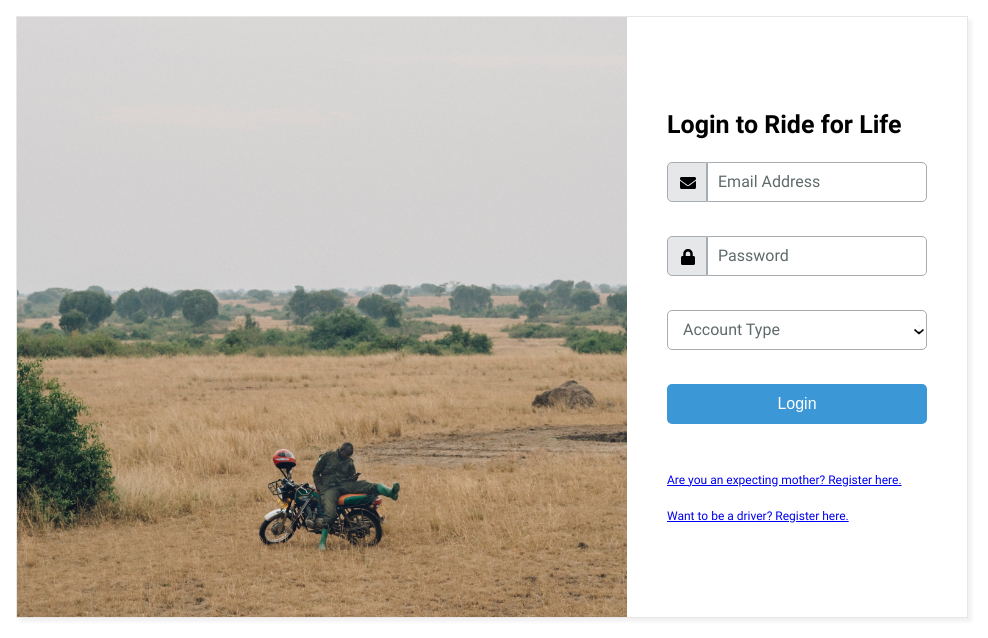
Test: Tests for SignIn page › error message after clicking and leaving account type drop down
This screenshot has width=988, height=638.
Expected: the text "Please choose account type" is not shown
# Now click on account type drop down and then click outside it
Click the element with test id "userType" at point(797, 330), box x1=667 y1=310 x2=927 y2=350
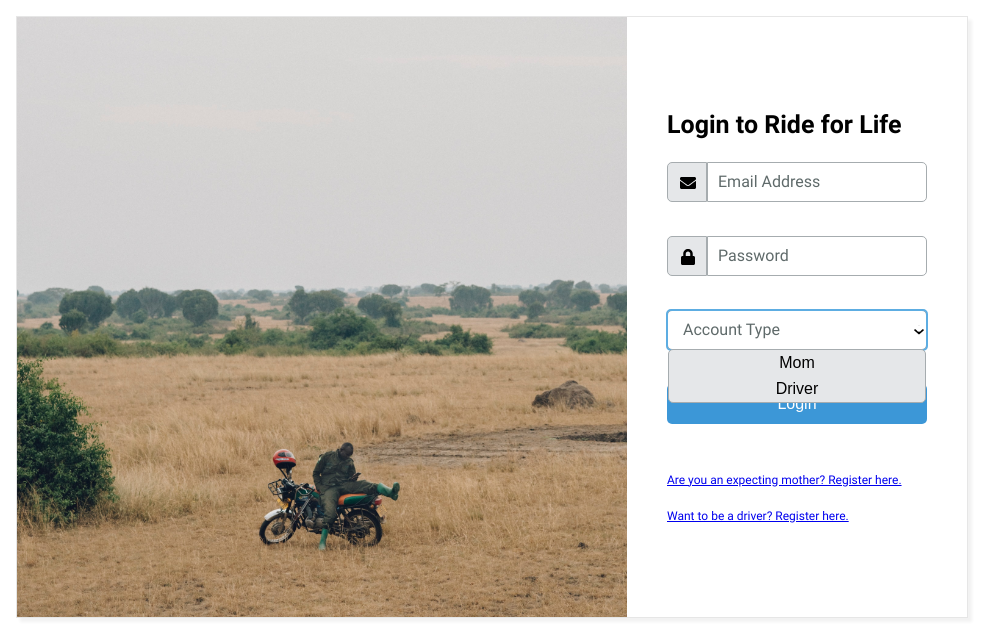
Click the heading "Login to Ride for Life" at point(797, 124), box x1=667 y1=112 x2=927 y2=136
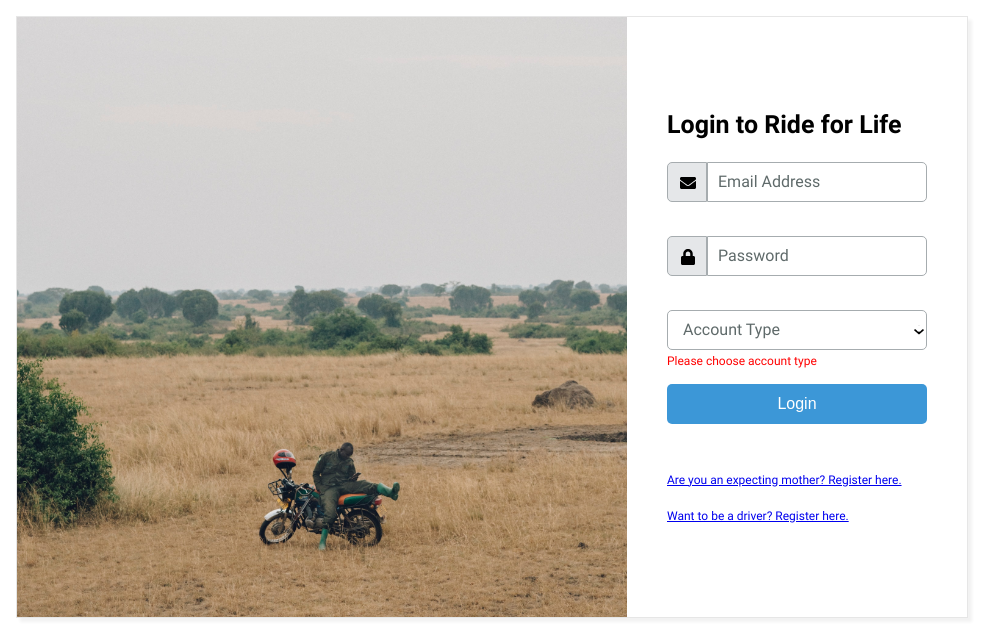
Result: the text "Please choose account type" is shown at x1=667 y1=354 x2=817 y2=368
